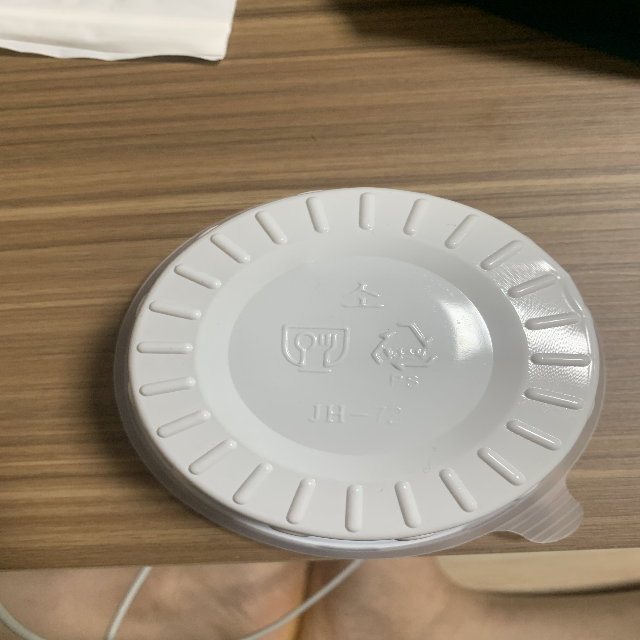ps: (368, 320, 439, 393)
